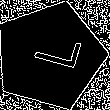L_W: (20, 34, 80, 78)
